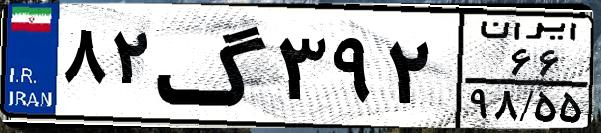2: (385, 28, 445, 110), (110, 28, 156, 98)
3: (270, 28, 330, 110)
5: (560, 70, 590, 125), (535, 70, 560, 125)
6: (537, 27, 568, 80), (508, 27, 537, 80)
8: (57, 26, 110, 100), (495, 70, 520, 125)
9: (330, 28, 385, 110), (470, 70, 495, 125)
گ: (156, 12, 270, 120)
